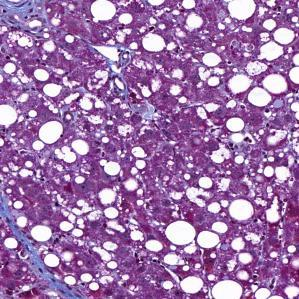fibrosis: (5, 210, 78, 292), (0, 1, 51, 28)
